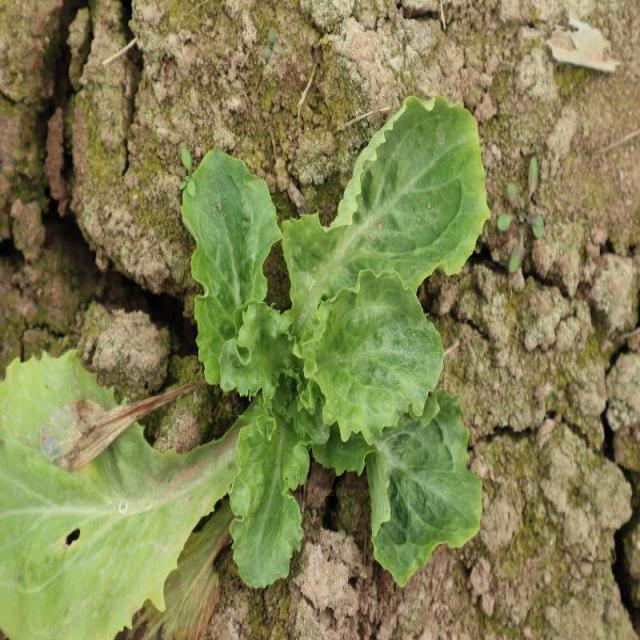crop: (0, 95, 493, 640)
